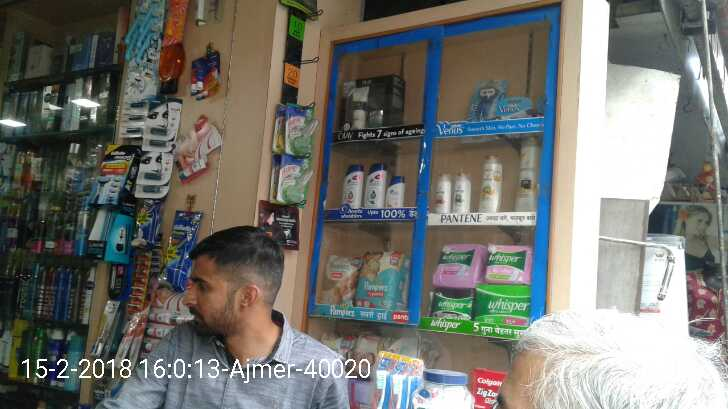gillete: (87, 149, 130, 205)
venus: (120, 1, 163, 96), (472, 84, 501, 119), (501, 99, 529, 119)
